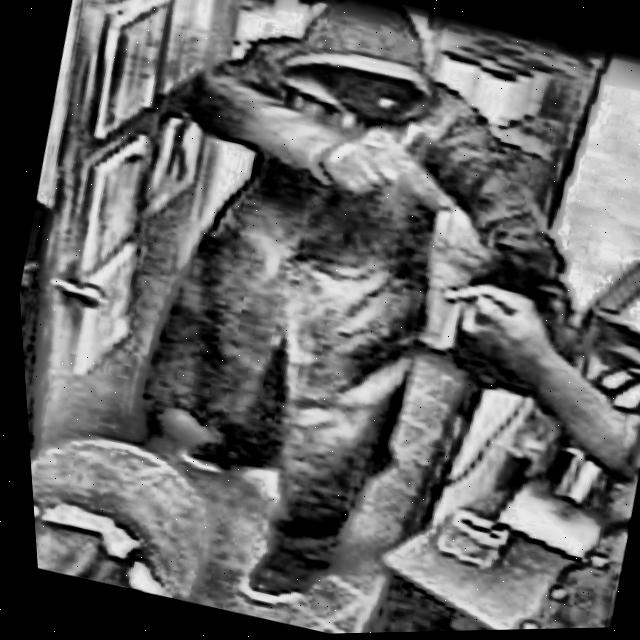robbery: (125, 0, 585, 617)
